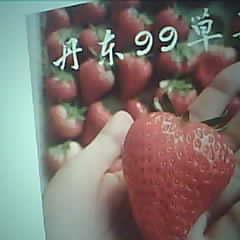straw-ripe: (123, 111, 235, 240)
